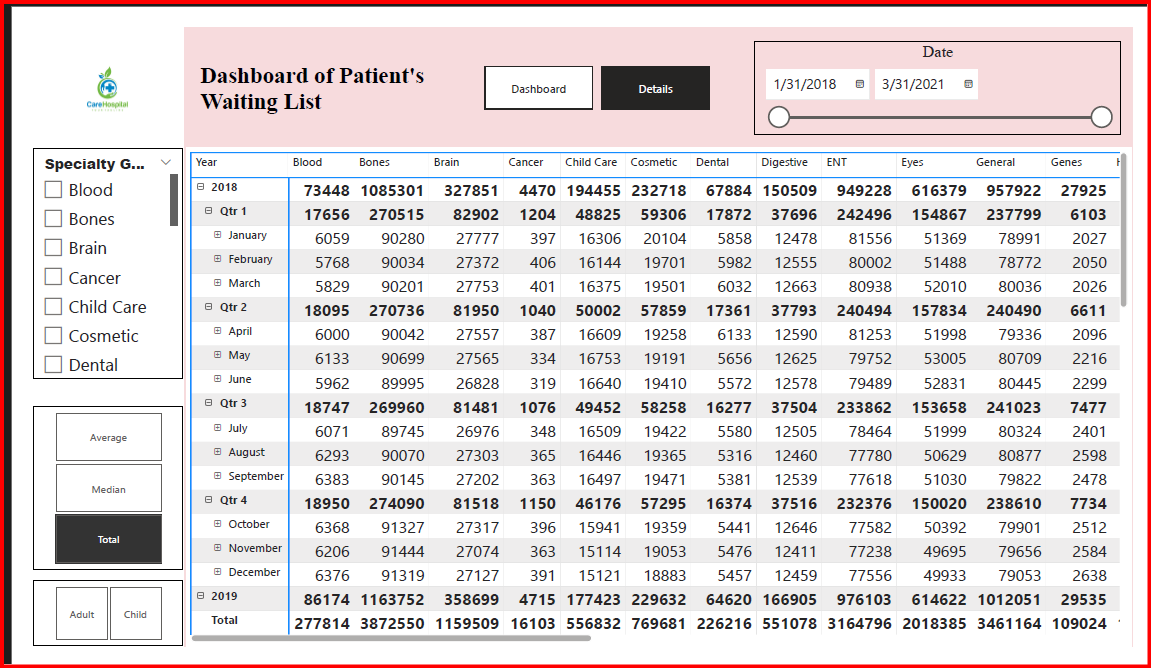

The dashboard page shown, as its layout file describes it:
{"tool":"powerbi","page":{"name":"Details","canvas":[1280,720],"ordinal":1},"visuals":[{"type":"shape","box":[0,0,175.3,720.5],"z":0},{"type":"slicer","fields":{"Values":["Calculation Method.cal_method"]},"box":[0,440.1,175.3,190.8],"z":2000},{"type":"image","box":[0,0,175.3,140.2],"z":9000},{"type":"slicer","fields":{"Values":["All data.Adult_Child"]},"box":[0,642.6,175.3,77.9],"z":10000},{"type":"slicer","fields":{"Values":["Mapping_Specialty.Specialty Group"]},"box":[0,140.2,175.3,268.7],"z":11000},{"type":"pivotTable","fields":{"Rows":["All data.Archive_Date.Variation.Date Hierarchy.Year","All data.Archive_Date.Variation.Date Hierarchy.Quarter","All data.Archive_Date.Variation.Date Hierarchy.Month","All data.Archive_Date.Variation.Date Hierarchy.Day"],"Columns":["Mapping_Specialty.Specialty Group"],"Values":["Measure_Table.Total/Average/Median Wait List"]},"box":[179.1,140.2,1100.2,580.3],"z":12001},{"type":"slicer","title":"Date","fields":{"Values":["All data.Archive_Date"]},"box":[839.3,15.6,426.5,109],"z":12002},{"type":"shape","box":[194.7,15.6,297.9,109],"z":12003},{"type":"pageNavigator","box":[525.8,44.8,262.9,50.6],"z":12004}]}

Visuals, with their boxes on the page's 1280x720 design canvas (x1, y1, x2, y2). These are canvas units, not pixel positions in the 1151x668 screenshot, which may show the page scaled, cropped or inside an application window:
shape: (left=0, top=0, right=175, bottom=720)
slicer - Calculation Method.cal_method: (left=0, top=440, right=175, bottom=631)
image: (left=0, top=0, right=175, bottom=140)
slicer - All data.Adult_Child: (left=0, top=643, right=175, bottom=720)
slicer - Mapping_Specialty.Specialty Group: (left=0, top=140, right=175, bottom=409)
pivotTable - All data.Archive_Date.Variation.Date Hierarchy.Year x All data.Archive_Date.Variation.Date Hierarchy.Quarter: (left=179, top=140, right=1279, bottom=720)
"Date" slicer: (left=839, top=16, right=1266, bottom=125)
shape: (left=195, top=16, right=493, bottom=125)
pageNavigator: (left=526, top=45, right=789, bottom=95)
